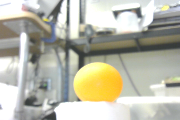PingPongBall: (74, 62, 123, 103)
